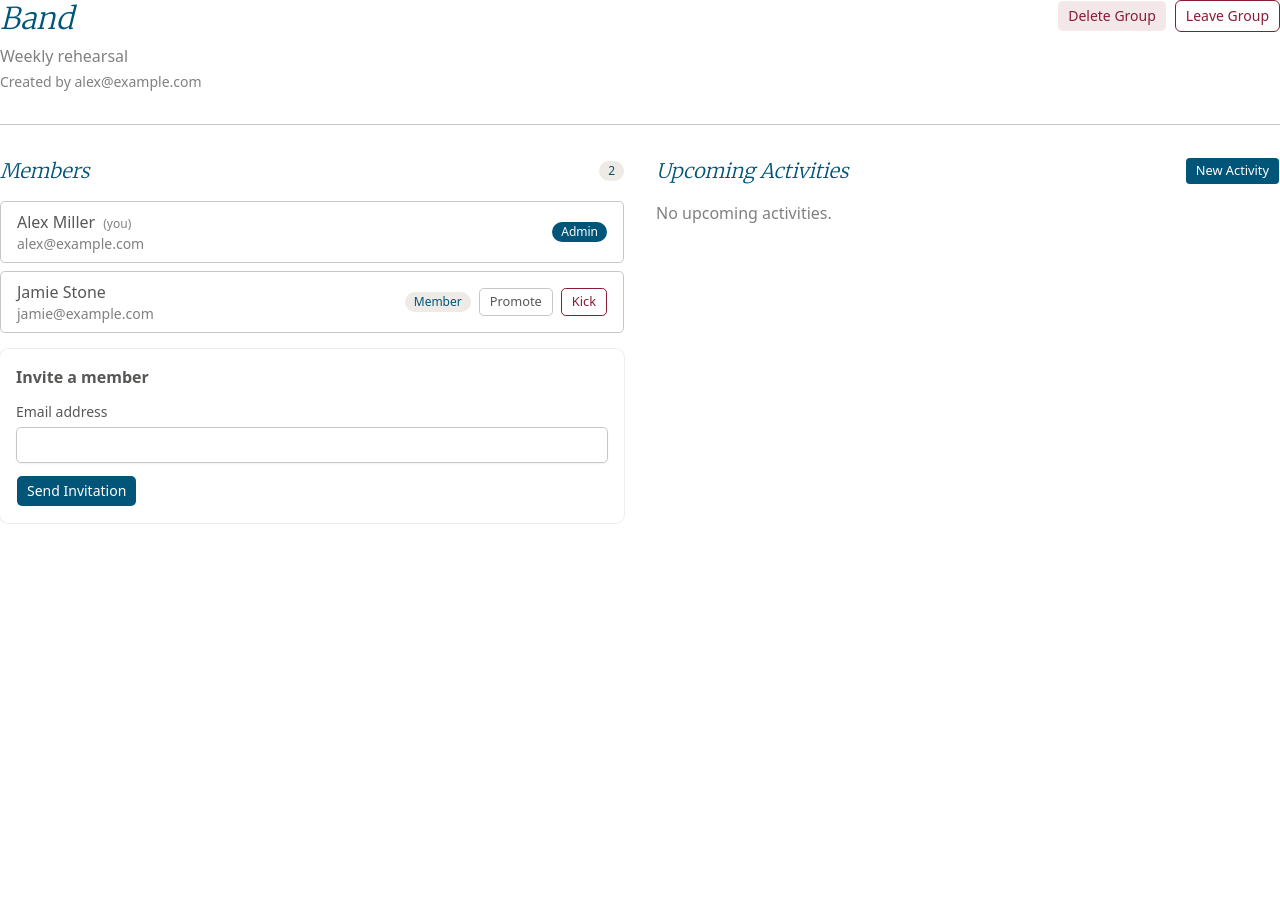
GroupDetailPage › warns that leaving will delete the group for the last admin
Expected: the heading "Band" is shown, top-left (0, 0), bottom-right (74, 37)
Click the button "Leave Group" at [1227, 16], box top-left (1175, 0), bottom-right (1279, 32)
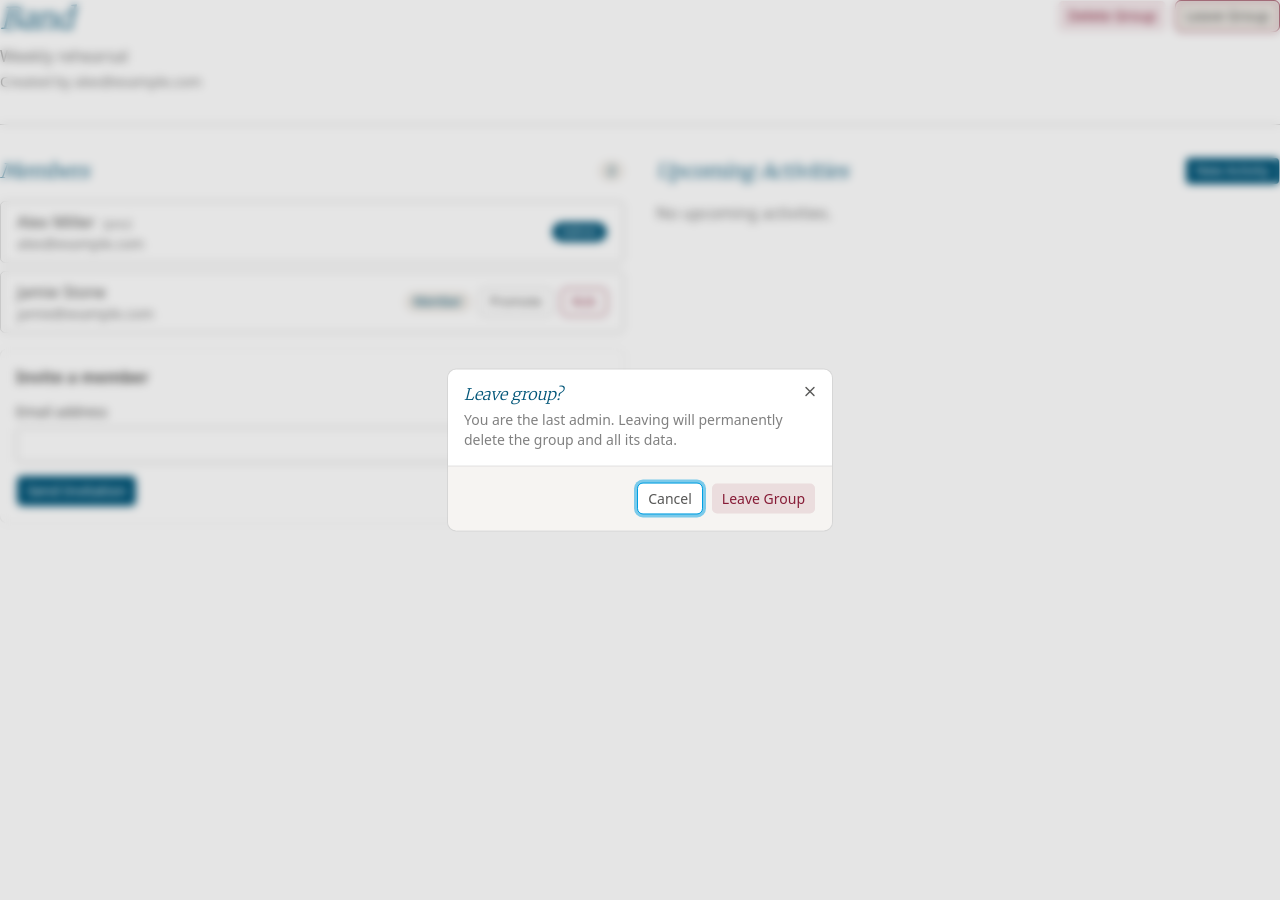
Now the text "You are the last admin. Leaving will permanently delete the group and all its data." is shown, box top-left (464, 410), bottom-right (783, 448)
